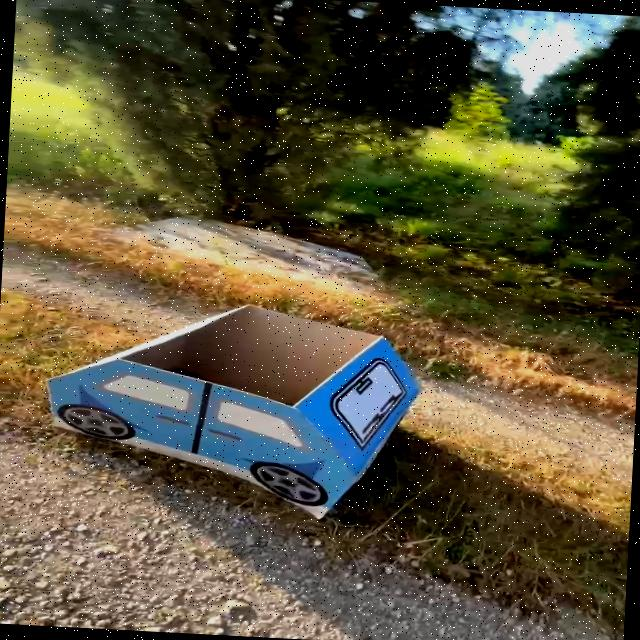blue_car: (0, 242, 493, 559)
